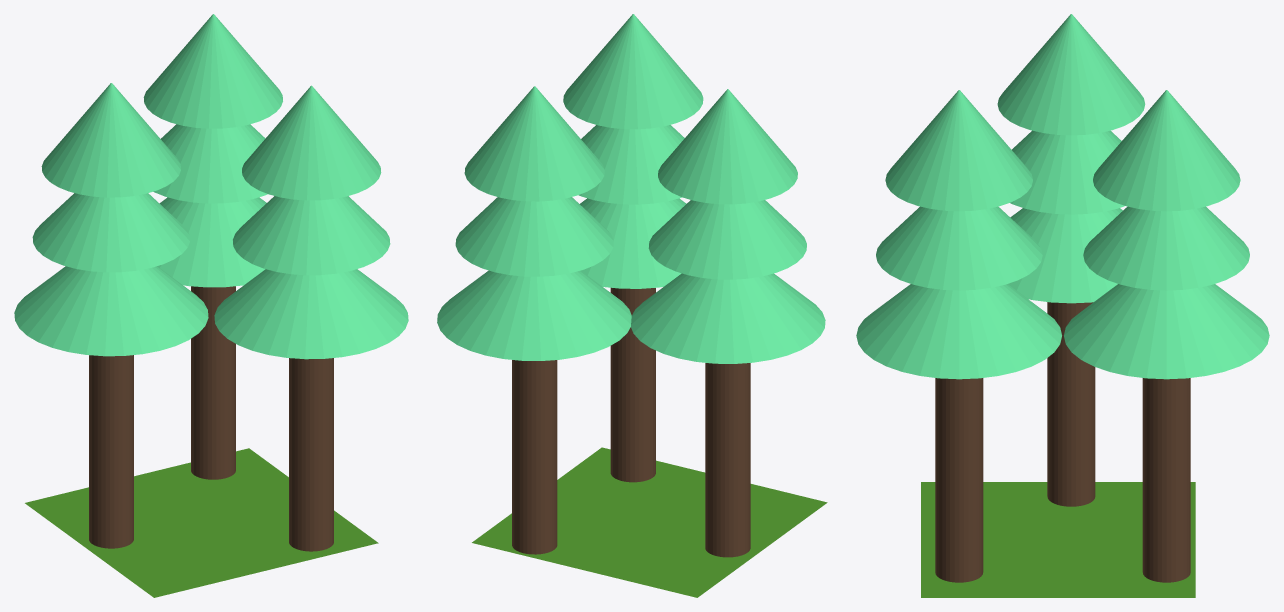
The model's file is tree_model.fbx.
The picture shows the model from 3 angles, left to right: view 1: azimuth 30°, elevation 25°; view 2: azimuth 150°, elevation 25°; view 3: azimuth 270°, elevation 25°; orthographic projection. The views are drawn at different scales.
Visible parts, largest first — view 1: 平面; view 2: 平面; view 3: 平面.
Part boxes in pixels (box(x1,y1,x2,y2)): 平面: box(14, 14, 408, 597); 平面: box(437, 14, 827, 597); 平面: box(856, 14, 1269, 597).
Size of the model in its own units: 281 by 388 by 301.
